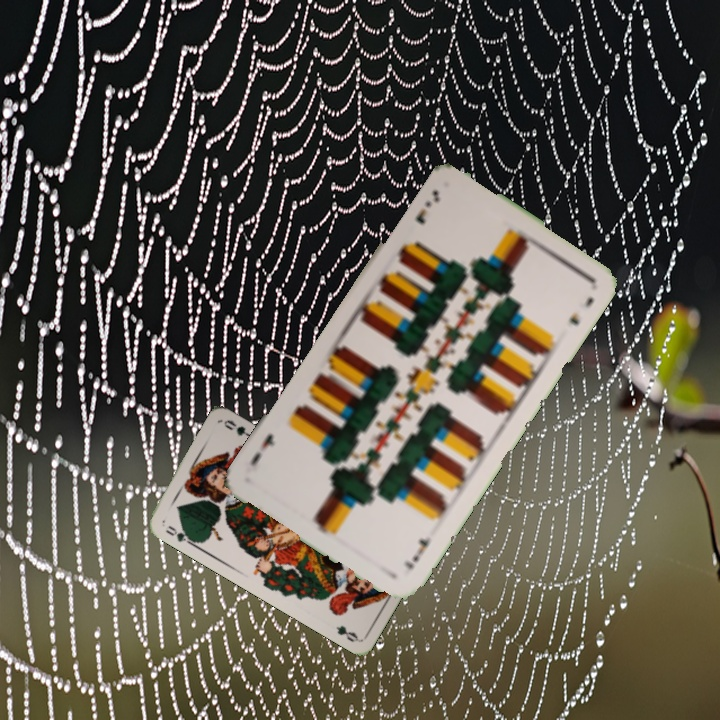E7: (400, 532, 434, 573), (411, 185, 443, 227)
GO: (161, 521, 197, 548)
